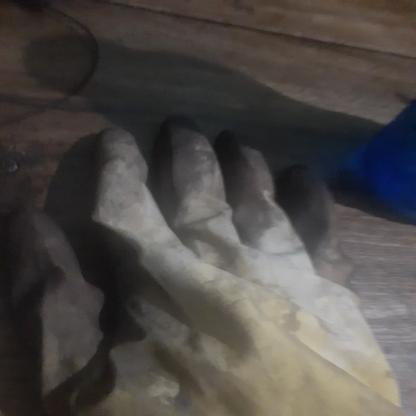gloved_hand: (8, 112, 405, 415)
